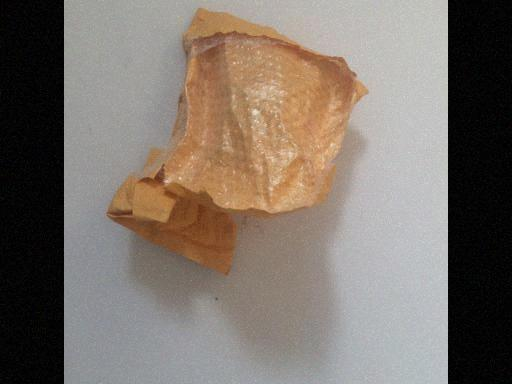trash: (107, 6, 370, 291)
